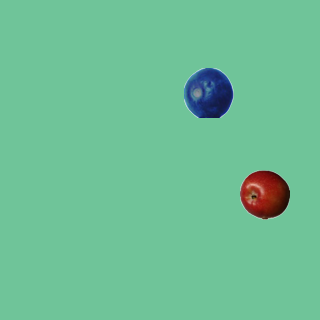Apple Braeburn: (239, 169, 289, 219)
Huckleberry: (183, 67, 233, 117)
